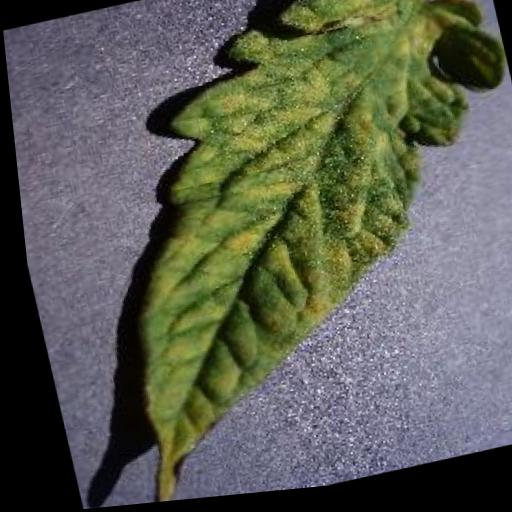Leaf Mold: (31, 0, 512, 510)
